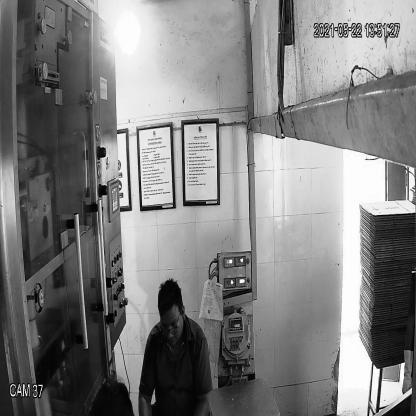goggles: (157, 315, 183, 340)
